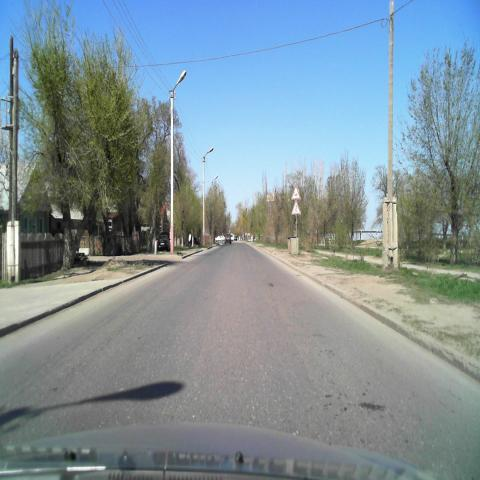1_12_2: (291, 185, 301, 200)
